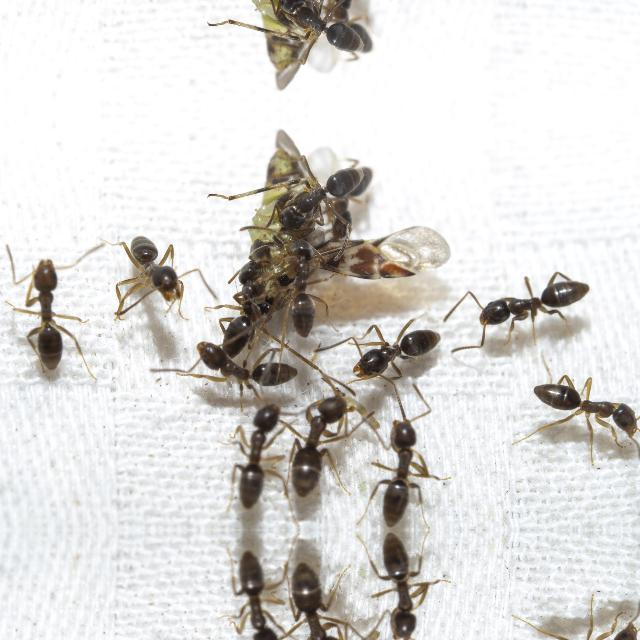Tapinoma: (0, 245, 91, 377), (248, 152, 382, 238), (276, 389, 360, 523), (212, 397, 294, 523), (362, 398, 440, 522), (519, 369, 639, 449), (464, 268, 602, 334), (210, 534, 294, 640), (248, 0, 382, 66), (276, 534, 358, 640), (180, 336, 308, 400), (206, 246, 282, 350), (362, 536, 438, 640), (271, 226, 339, 342), (105, 226, 198, 308), (342, 320, 452, 388), (519, 608, 639, 640)
